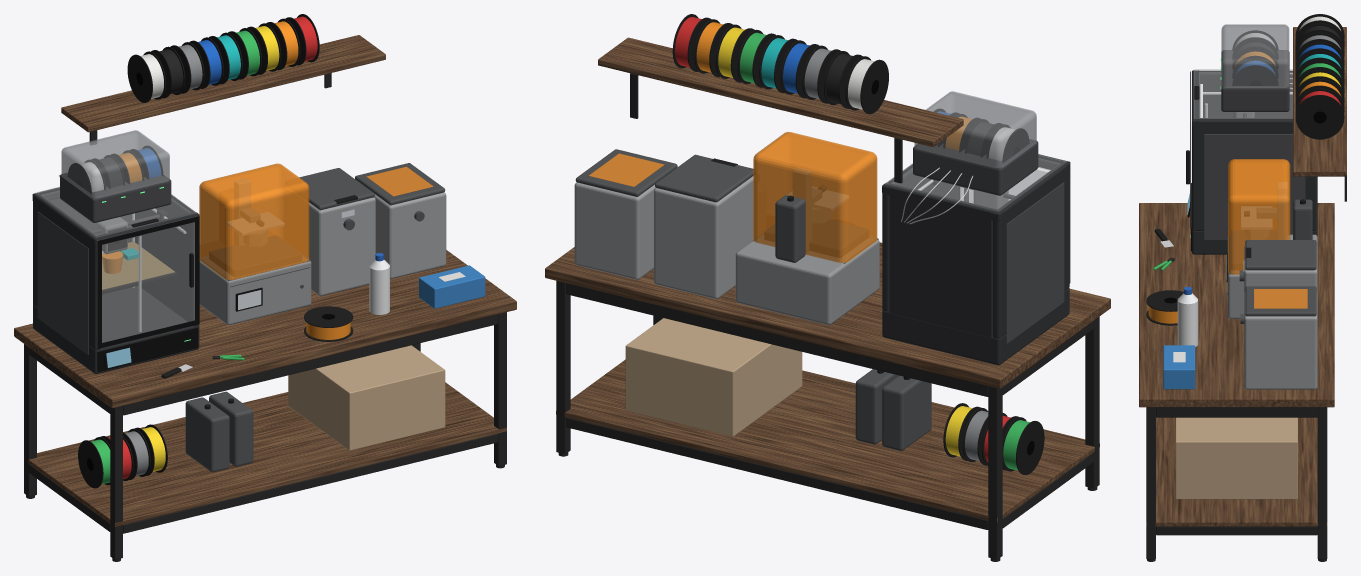
Rendered from printtable.glb.
The picture shows the model from 3 angles, left to right: view 1: azimuth 30°, elevation 25°; view 2: azimuth 150°, elevation 25°; view 3: azimuth 270°, elevation 25°; orthographic projection. The views are drawn at different scales.
Visible parts, largest first — view 1: Drucktisch_Nussbaum_X, Drucktisch_Stahl_schwarz, Drucktisch_Haube_orange, Drucktisch_Karton, Drucktisch_H2D_Gehaeuse, Drucktisch_Form_dunkelgrau, Drucktisch_Glas_rauch, Drucktisch_Wash_Cure_Gehaeuse, Drucktisch_Kunststoff_schwarz, Drucktisch_Form_Basis, Drucktisch_H2D_Seitenblende, Drucktisch_AMS_Deckel (+15 smaller); view 2: Drucktisch_Nussbaum_X, Drucktisch_H2D_Gehaeuse, Drucktisch_Stahl_schwarz, Drucktisch_Wash_Cure_Gehaeuse, Drucktisch_Karton, Drucktisch_Form_dunkelgrau, Drucktisch_Haube_orange, Drucktisch_Form_Basis, Drucktisch_Kunststoff_schwarz, Drucktisch_H2D_Seitenblende, Drucktisch_AMS_Deckel, Drucktisch_AMS_Gehaeuse (+10 smaller); view 3: Drucktisch_Nussbaum_X, Drucktisch_Karton, Drucktisch_Wash_Cure_Gehaeuse, Drucktisch_Haube_orange, Drucktisch_Stahl_schwarz, Drucktisch_Form_dunkelgrau, Drucktisch_Kunststoff_schwarz, Drucktisch_H2D_Gehaeuse, Drucktisch_H2D_Seitenblende, Drucktisch_AMS_Deckel, Drucktisch_AMS_Gehaeuse, Drucktisch_Hochglanz_schwarz (+9 smaller).
Part boxes in pixels (left/top/right/bottom): Drucktisch_Nussbaum_X: left=14, top=35, right=516, bottom=526; Drucktisch_Stahl_schwarz: left=24, top=73, right=506, bottom=559; Drucktisch_Haube_orange: left=199, top=163, right=433, bottom=279; Drucktisch_Karton: left=288, top=345, right=445, bottom=450; Drucktisch_H2D_Gehaeuse: left=32, top=187, right=199, bottom=374; Drucktisch_Form_dunkelgrau: left=185, top=163, right=445, bottom=472; Drucktisch_Glas_rauch: left=35, top=187, right=196, bottom=342; Drucktisch_Wash_Cure_Gehaeuse: left=309, top=192, right=446, bottom=296; Drucktisch_Kunststoff_schwarz: left=78, top=14, right=357, bottom=488; Drucktisch_Form_Basis: left=199, top=178, right=311, bottom=325; Drucktisch_H2D_Seitenblende: left=37, top=212, right=88, bottom=355; Drucktisch_AMS_Deckel: left=61, top=130, right=169, bottom=198; Drucktisch_Nussbaum_X: left=545, top=37, right=1110, bottom=522; Drucktisch_H2D_Gehaeuse: left=882, top=155, right=1069, bottom=365; Drucktisch_Stahl_schwarz: left=556, top=73, right=1099, bottom=559; Drucktisch_Wash_Cure_Gehaeuse: left=574, top=176, right=753, bottom=299; Drucktisch_Karton: left=625, top=318, right=802, bottom=436; Drucktisch_Form_dunkelgrau: left=575, top=149, right=931, bottom=450; Drucktisch_Haube_orange: left=589, top=132, right=877, bottom=262; Drucktisch_Form_Basis: left=735, top=168, right=879, bottom=325; Drucktisch_Kunststoff_schwarz: left=672, top=14, right=1044, bottom=475; Drucktisch_H2D_Seitenblende: left=1006, top=182, right=1064, bottom=343; Drucktisch_AMS_Deckel: left=914, top=91, right=1036, bottom=167; Drucktisch_AMS_Gehaeuse: left=913, top=139, right=1038, bottom=195; Drucktisch_Nussbaum_X: left=1139, top=27, right=1346, bottom=526; Drucktisch_Karton: left=1175, top=417, right=1297, bottom=499; Drucktisch_Wash_Cure_Gehaeuse: left=1244, top=245, right=1317, bottom=389; Drucktisch_Haube_orange: left=1228, top=159, right=1307, bottom=308; Drucktisch_Stahl_schwarz: left=1146, top=176, right=1346, bottom=559; Drucktisch_Form_dunkelgrau: left=1227, top=199, right=1316, bottom=323; Drucktisch_Kunststoff_schwarz: left=1146, top=14, right=1344, bottom=325; Drucktisch_H2D_Gehaeuse: left=1192, top=70, right=1317, bottom=254; Drucktisch_H2D_Seitenblende: left=1204, top=134, right=1305, bottom=239; Drucktisch_AMS_Deckel: left=1221, top=24, right=1289, bottom=87; Drucktisch_AMS_Gehaeuse: left=1221, top=50, right=1289, bottom=111; Drucktisch_Hochglanz_schwarz: left=1187, top=30, right=1278, bottom=282.
Size of the model in its own units: 1.9 by 1.86 by 0.85.
Materials: 42 (2 with a texture image).
